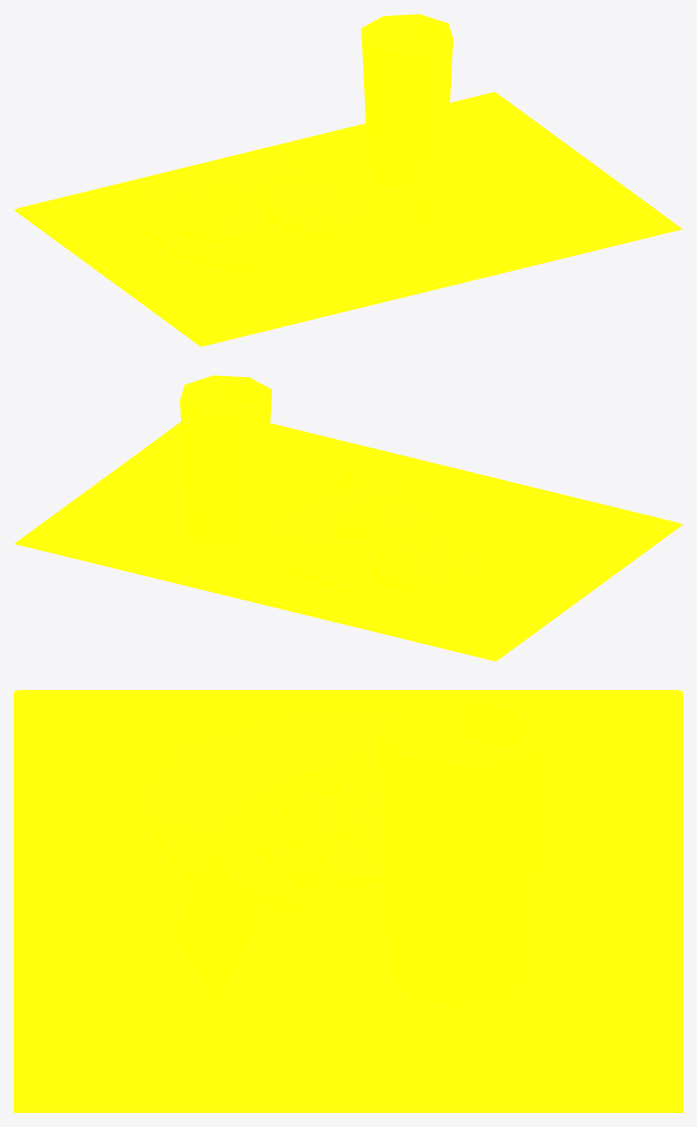
File: santa-milk-and-cookies.glb
3 views of the same model, one above another, from view 1: azimuth 30°, elevation 25°; view 2: azimuth 150°, elevation 25°; view 3: azimuth 270°, elevation 25° (orthographic). The views are drawn at different scales.
Parts seen in each view (by area): view 1: santa_milk_and_cookies; view 2: santa_milk_and_cookies; view 3: santa_milk_and_cookies.
Boxes of the visible parts, <box> form: santa_milk_and_cookies: <box>14,14,682,346</box>; santa_milk_and_cookies: <box>14,375,682,661</box>; santa_milk_and_cookies: <box>14,690,682,1112</box>.
Size of the model in its own units: 0.4389 by 0.1225 by 0.2947.
2 materials, 2 textured.
